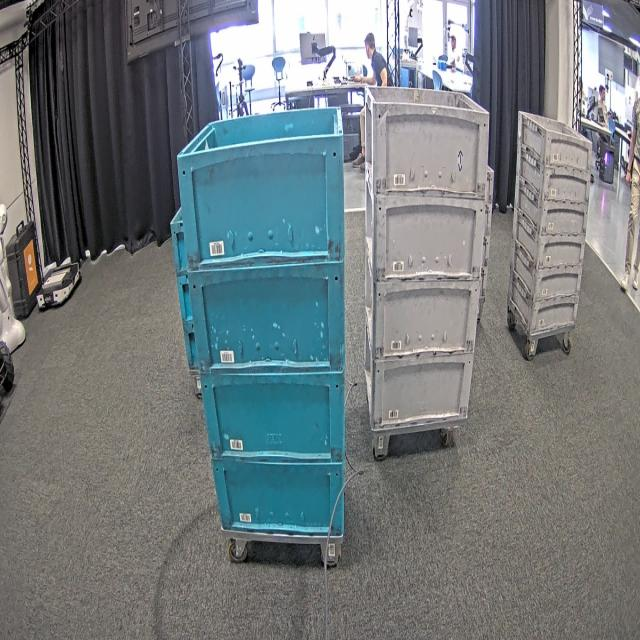Box3G: (520, 112, 594, 175), (507, 274, 580, 336), (512, 210, 585, 271), (513, 182, 587, 238), (511, 246, 582, 304), (519, 150, 591, 206)
Box4G: (364, 83, 489, 199), (364, 174, 486, 283), (364, 315, 474, 426), (365, 246, 480, 352)
BoxB4: (175, 108, 348, 279), (208, 423, 348, 541), (197, 360, 348, 469), (188, 262, 348, 364)
